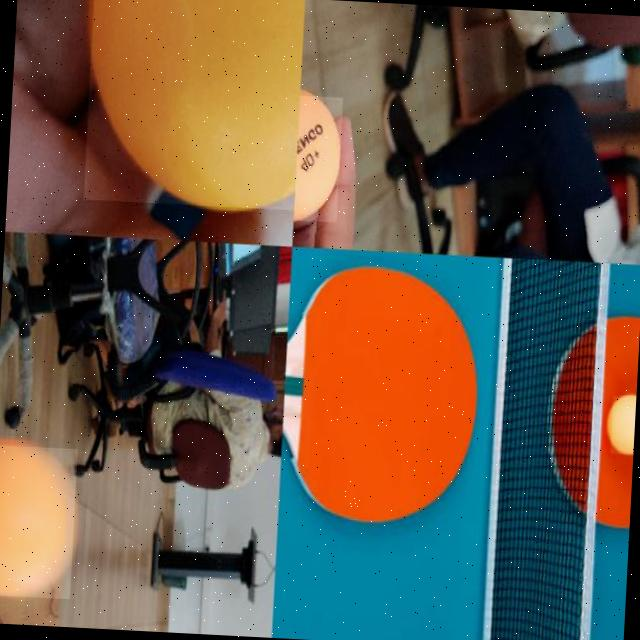ping-pong-ball: (81, 0, 305, 212), (0, 442, 78, 599), (294, 92, 342, 224), (608, 394, 636, 454)
